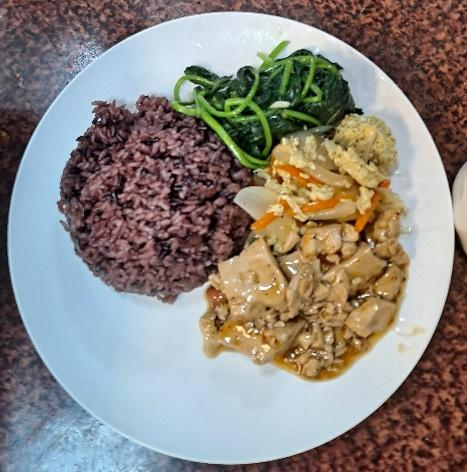big fried chicken leg: (6, 13, 467, 463)
braised fish: (59, 95, 253, 300)
braised fish fillet: (195, 206, 416, 379), (176, 46, 355, 166), (248, 112, 400, 223)
